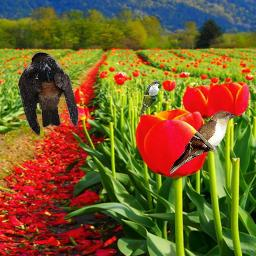Cuckoo: (170, 110, 237, 175), (137, 80, 160, 118)
Swallow: (18, 52, 79, 136)
